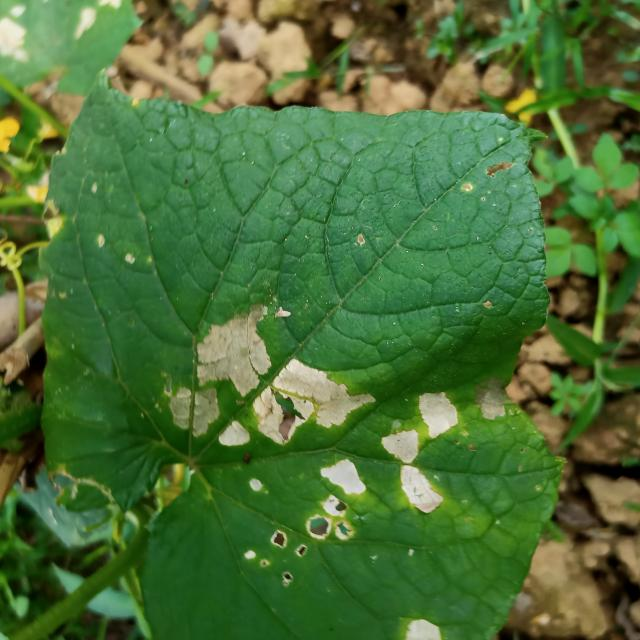disease_cucumber: (158, 298, 380, 452), (236, 443, 366, 589), (379, 386, 461, 518), (390, 616, 448, 640)
